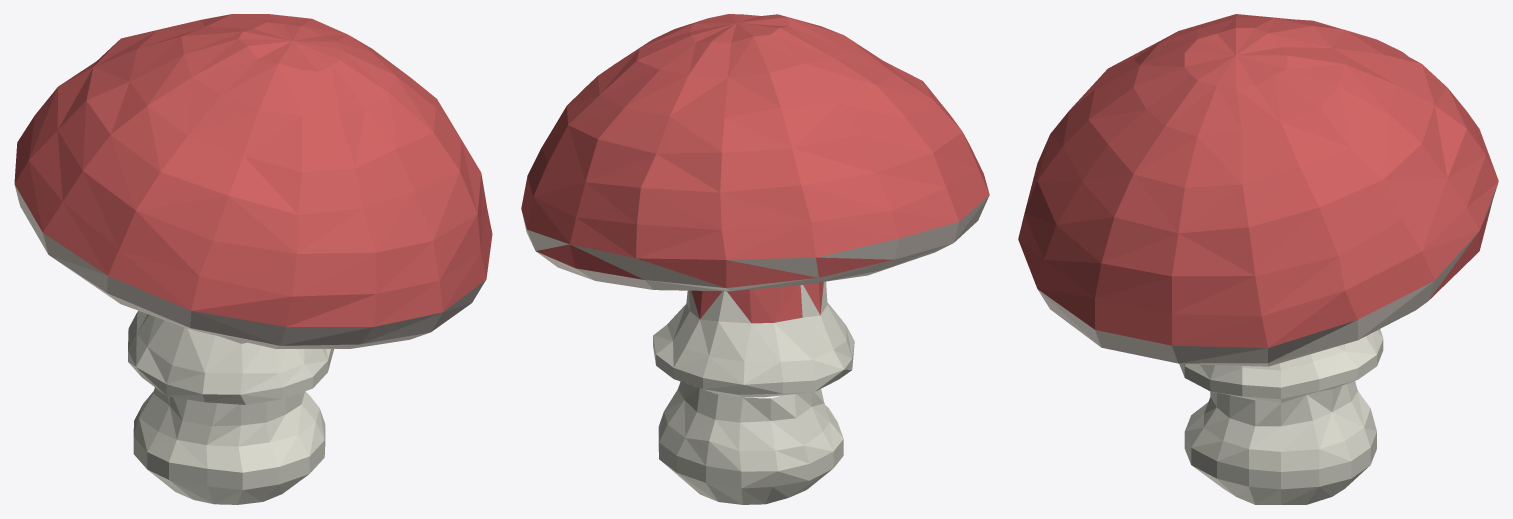
Rendered from nat_kinoko1.glb.
3 views of the same model, side by side, from view 1: azimuth 30°, elevation 25°; view 2: azimuth 150°, elevation 25°; view 3: azimuth 270°, elevation 25° (orthographic). The views are drawn at different scales.
Visible parts, largest first — view 1: geometry_0; view 2: geometry_0; view 3: geometry_0.
Part boxes in pixels (x1,y1,x2,y2): geometry_0: (14, 14, 492, 504); geometry_0: (521, 14, 989, 504); geometry_0: (1018, 14, 1498, 504).
Bounding box in the file's own units: 0.0371 × 0.0376 × 0.0366.
